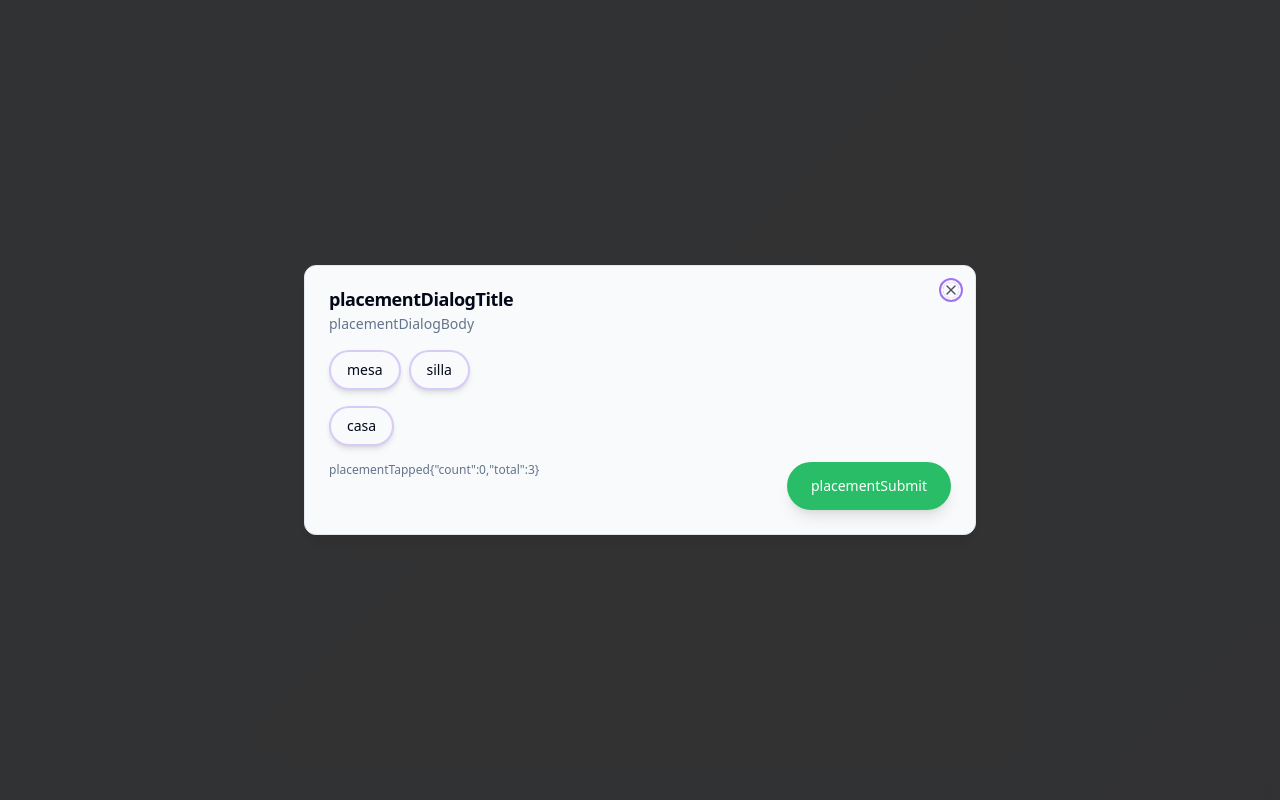
it: PlacementCheck › lets a tap be undone
Click the button "mesa" at (365, 370), box 329,350 -> 400,390
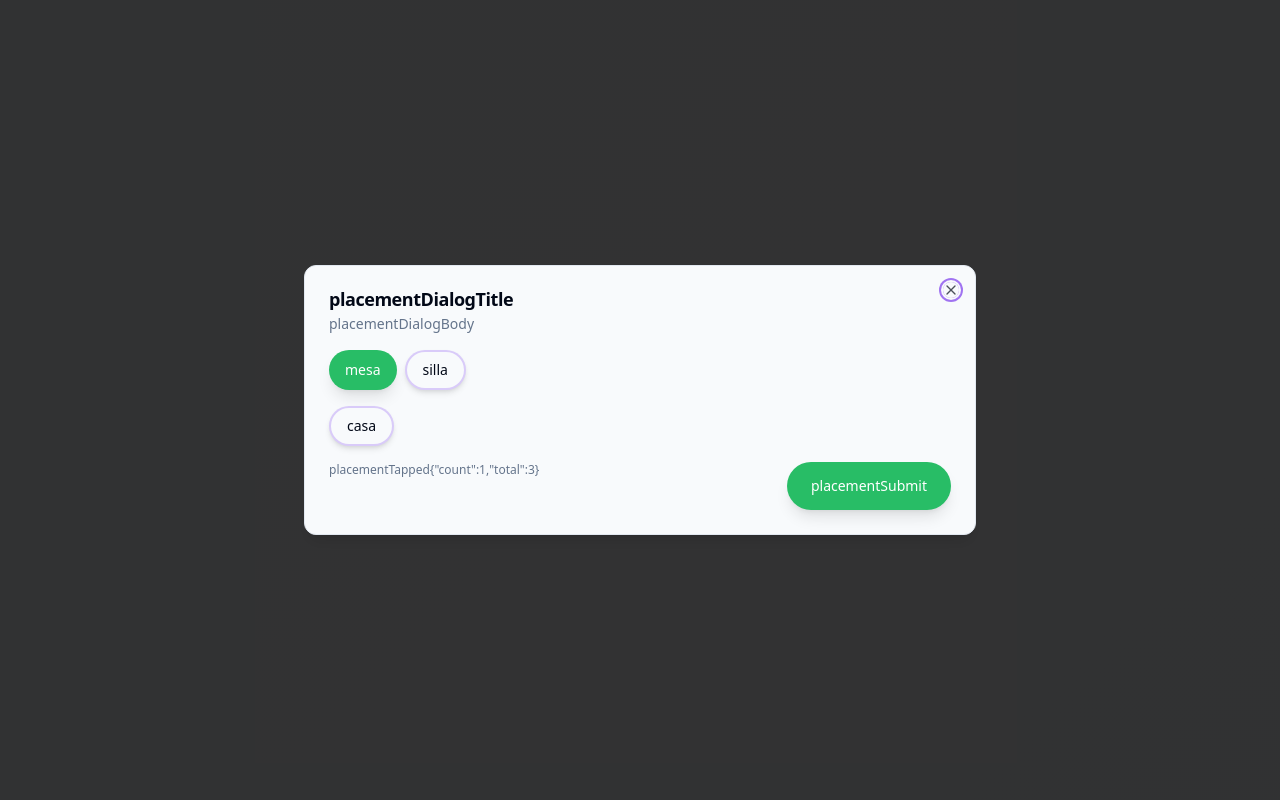
Click the button "mesa" at (363, 370), box 329,350 -> 396,390
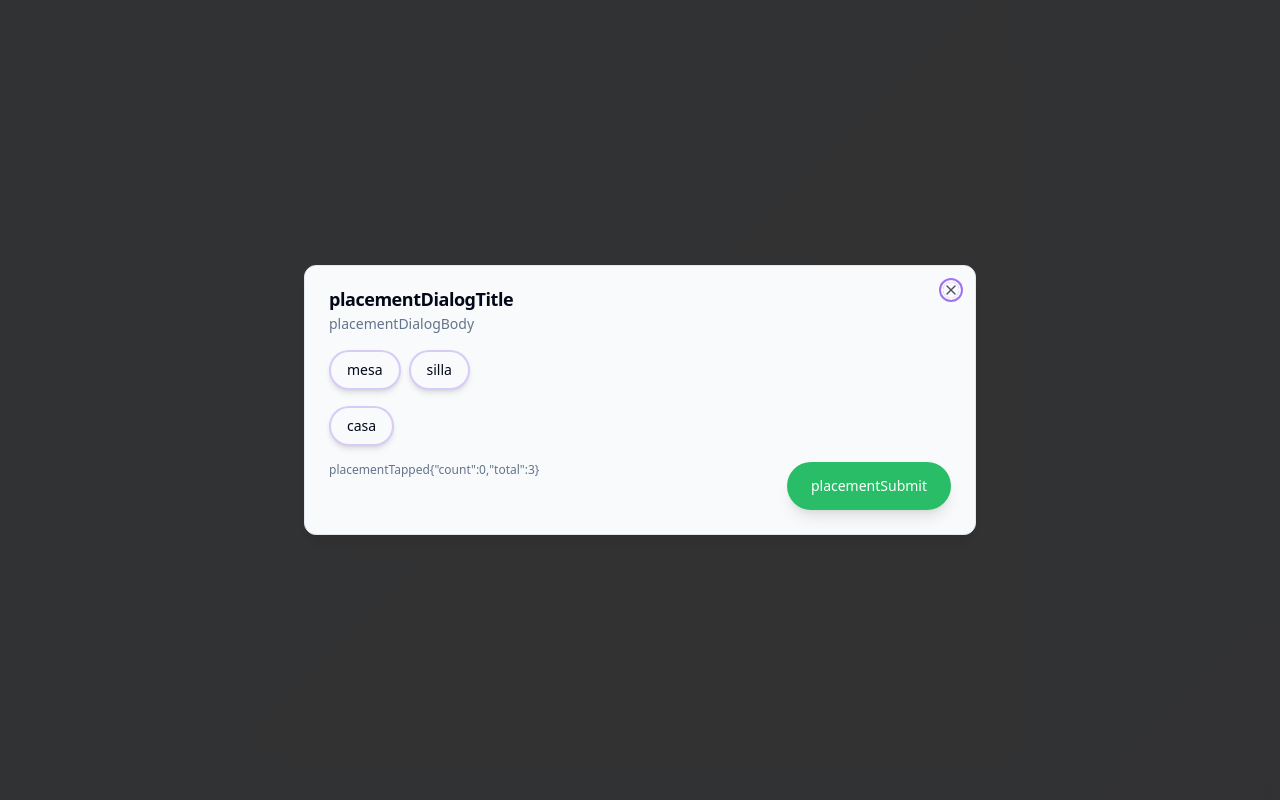
Now the button "mesa" is not pressed, box 329,350 -> 400,390
